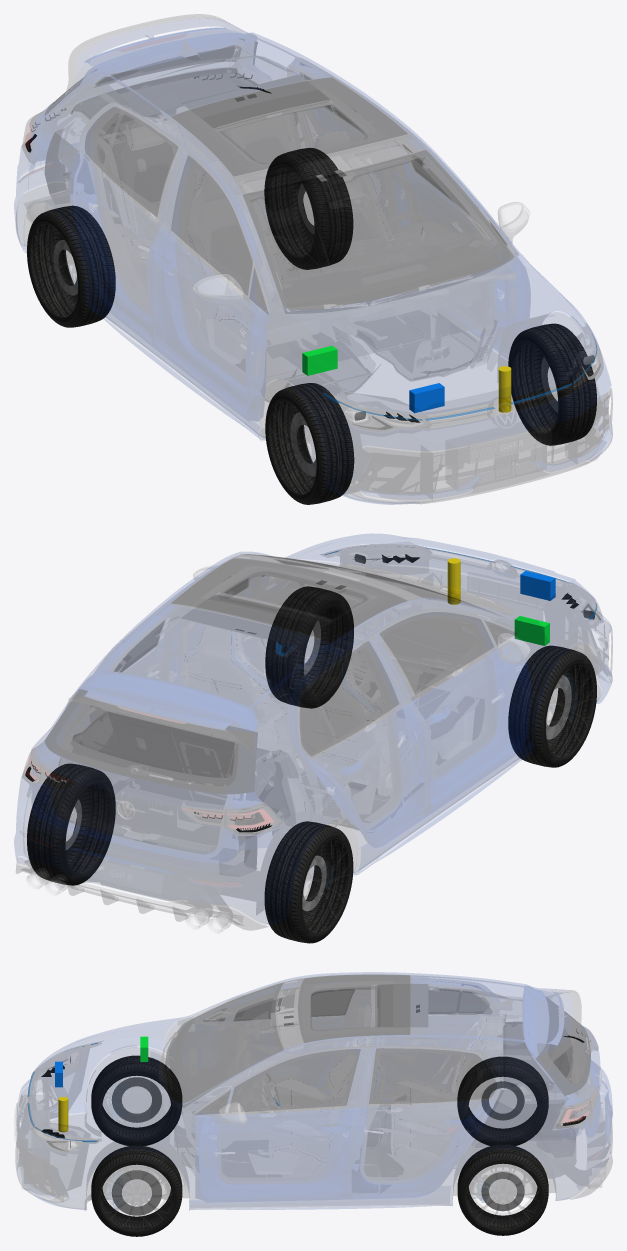
Rendered from volkswagen_golf_r_transparant.glb.
3 renders of one model, top to bottom at view 1: azimuth 30°, elevation 25°; view 2: azimuth 150°, elevation 25°; view 3: azimuth 270°, elevation 25°, orthographic. The views are drawn at different scales.
Parts seen in each view (by area): view 1: R:Ext_Window_Windshield_Windows_Mesh_54_Default, R:Ext_Body_Material_Atlas_Mesh_58_Default, R:Ext_Body_Car_Paint_Mesh_59_Default, R:Ext_Sunroof_Glass_Windows_Tinted_Mesh_11_Default, R:Tire_RL_C7D_Tires_Mesh_0_003_Default_003, R:Tire_RR_C7D_Tires_Mesh_0_003_Default_003, R:Tire_FR_C7D_Tires_Mesh_0_003_Default_003, R:Tire_FL_C7D_Tires_Mesh_0_003_Default_003, R:Int_Material_Atlas_Mesh_66_001_Default_001, R:Int_Carpet_Legroom_Mesh_44_001_Default_001, R:Ext_Door_FR_Car_Paint_Mesh_83_Default, R:Ext_Door_FR_Windows_Mesh_81_Default (+23 smaller); view 2: R:Ext_Body_Material_Atlas_Mesh_58_Default, R:Ext_Window_Rear_Windows_Mesh_93_Default, R:Ext_Body_Car_Paint_Mesh_59_Default, R:Ext_Sunroof_Glass_Windows_Tinted_Mesh_11_Default, R:Ext_Trunk_Lid_Car_Paint_Mesh_105_Default, R:Int_Carpet_Trunk_Mesh_51_001_Default_001, R:Tire_RL_C7D_Tires_Mesh_0_003_Default_003, R:Tire_FL_C7D_Tires_Mesh_0_003_Default_003, R:Tire_RR_C7D_Tires_Mesh_0_003_Default_003, R:Tire_FR_C7D_Tires_Mesh_0_003_Default_003, R:Ext_Door_RR_Windows_Mesh_90_Default, R:Int_Back_Shelf_Carpet_Trunk_Mesh_2_001_Default_001_Carpet_ (+28 smaller); view 3: R:Ext_Body_Material_Atlas_Mesh_58_Default, R:Ext_Body_Car_Paint_Mesh_59_Default, R:Ext_Window_Windshield_Windows_Mesh_54_Default, R:Ext_Sunroof_Glass_Windows_Tinted_Mesh_11_Default, R:Ext_Door_RL_Windows_Mesh_85_Default, R:Ext_Door_FL_Windows_Mesh_70_Default, R:Ext_Door_FL_Car_Paint_Mesh_67_Default, R:Int_Carpet_Trunk_Mesh_51_001_Default_001, R:Ext_Door_RL_Car_Paint_Mesh_86_Default, R:Tire_FL_C7D_Tires_Mesh_0_003_Default_003, R:Tire_RL_C7D_Tires_Mesh_0_003_Default_003, R:Tire_FR_C7D_Tires_Mesh_0_003_Default_003 (+29 smaller).
Part boxes in pixels (x1,y1,x2,y2): R:Ext_Window_Windshield_Windows_Mesh_54_Default: (243, 150, 513, 313); R:Ext_Body_Material_Atlas_Mesh_58_Default: (16, 41, 612, 503); R:Ext_Body_Car_Paint_Mesh_59_Default: (14, 33, 611, 504); R:Ext_Sunroof_Glass_Windows_Tinted_Mesh_11_Default: (171, 77, 407, 175); R:Tire_RL_C7D_Tires_Mesh_0_003_Default_003: (264, 148, 353, 269); R:Tire_RR_C7D_Tires_Mesh_0_003_Default_003: (27, 205, 115, 327); R:Tire_FR_C7D_Tires_Mesh_0_003_Default_003: (265, 383, 354, 504); R:Tire_FL_C7D_Tires_Mesh_0_003_Default_003: (508, 323, 596, 445); R:Int_Material_Atlas_Mesh_66_001_Default_001: (70, 73, 582, 499); R:Int_Carpet_Legroom_Mesh_44_001_Default_001: (263, 313, 496, 401); R:Ext_Door_FR_Car_Paint_Mesh_83_Default: (150, 227, 257, 420); R:Ext_Door_FR_Windows_Mesh_81_Default: (171, 155, 252, 295); R:Ext_Body_Material_Atlas_Mesh_58_Default: (16, 544, 612, 929); R:Ext_Window_Rear_Windows_Mesh_93_Default: (45, 689, 257, 793); R:Ext_Body_Car_Paint_Mesh_59_Default: (14, 534, 611, 923); R:Ext_Sunroof_Glass_Windows_Tinted_Mesh_11_Default: (172, 558, 406, 642); R:Ext_Trunk_Lid_Car_Paint_Mesh_105_Default: (32, 671, 262, 862); R:Int_Carpet_Trunk_Mesh_51_001_Default_001: (50, 750, 297, 876); R:Tire_RL_C7D_Tires_Mesh_0_003_Default_003: (27, 763, 115, 885); R:Tire_FL_C7D_Tires_Mesh_0_003_Default_003: (265, 586, 353, 708); R:Tire_RR_C7D_Tires_Mesh_0_003_Default_003: (264, 821, 353, 943); R:Tire_FR_C7D_Tires_Mesh_0_003_Default_003: (508, 645, 596, 767); R:Ext_Door_RR_Windows_Mesh_90_Default: (300, 641, 398, 755); R:Int_Back_Shelf_Carpet_Trunk_Mesh_2_001_Default_001_Carpet_: (73, 711, 269, 777); R:Ext_Body_Material_Atlas_Mesh_58_Default: (16, 979, 612, 1210); R:Ext_Body_Car_Paint_Mesh_59_Default: (18, 972, 611, 1209); R:Ext_Window_Windshield_Windows_Mesh_54_Default: (165, 983, 282, 1107); R:Ext_Sunroof_Glass_Windows_Tinted_Mesh_11_Default: (298, 975, 409, 1042); R:Ext_Door_RL_Windows_Mesh_85_Default: (369, 1048, 496, 1103); R:Ext_Door_FL_Windows_Mesh_70_Default: (229, 1049, 360, 1111); R:Ext_Door_FL_Car_Paint_Mesh_67_Default: (199, 1108, 356, 1200); R:Int_Carpet_Trunk_Mesh_51_001_Default_001: (475, 1015, 578, 1157); R:Ext_Door_RL_Car_Paint_Mesh_86_Default: (351, 1100, 495, 1198); R:Tire_FL_C7D_Tires_Mesh_0_003_Default_003: (91, 1145, 182, 1236); R:Tire_RL_C7D_Tires_Mesh_0_003_Default_003: (457, 1144, 548, 1235); R:Tire_FR_C7D_Tires_Mesh_0_003_Default_003: (91, 1055, 182, 1145).
Size of the model in its own units: 0.0209 by 0.0149 by 0.043.
45 materials, 14 textured.
